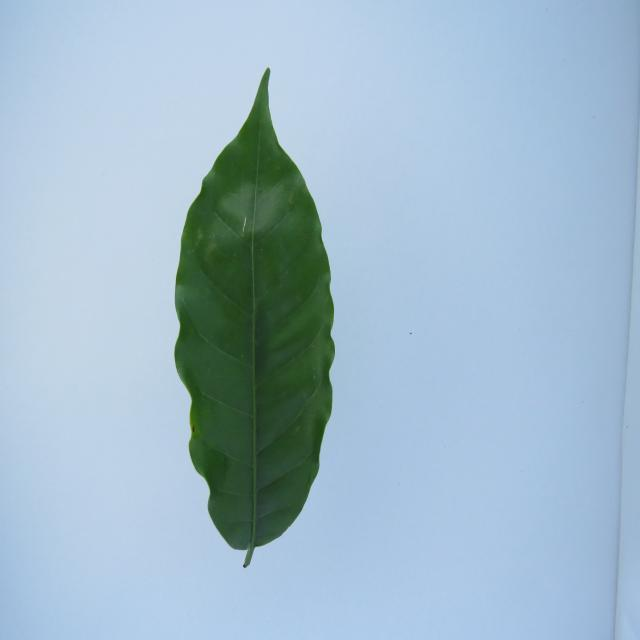DeficienciaNutricional-Calcio: (175, 68, 335, 567)
